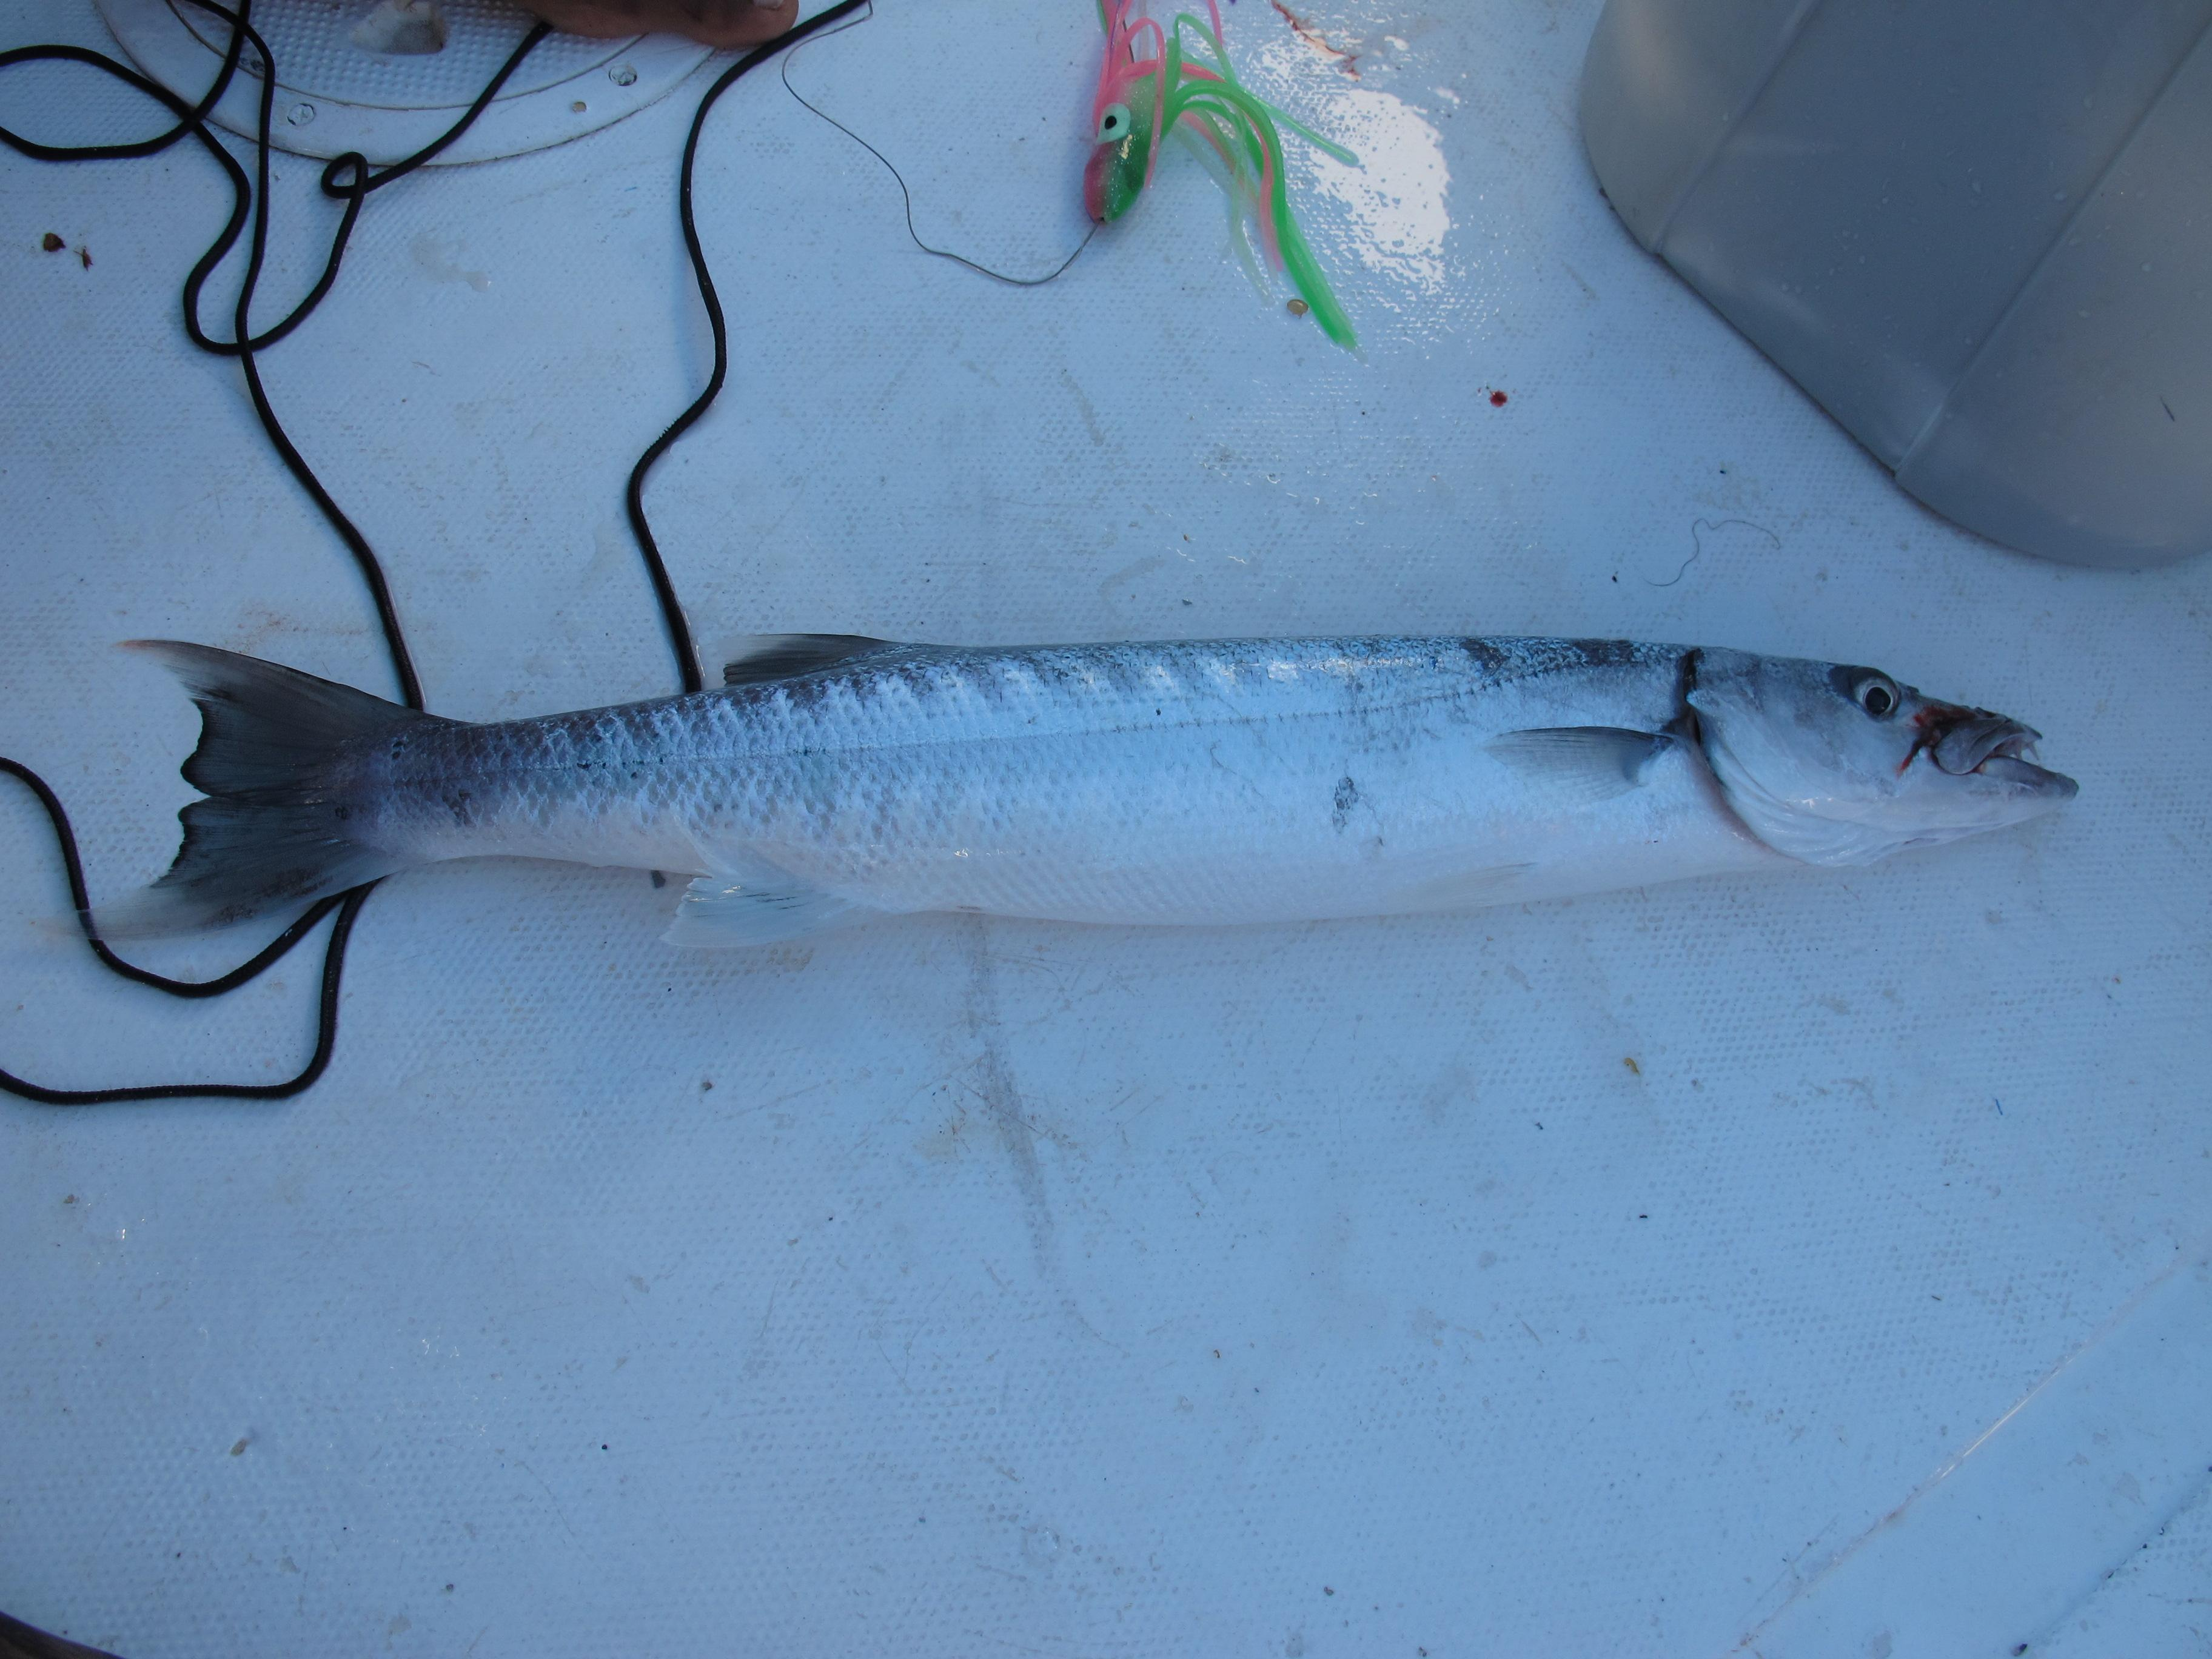Fish: (119, 592, 2093, 950)
